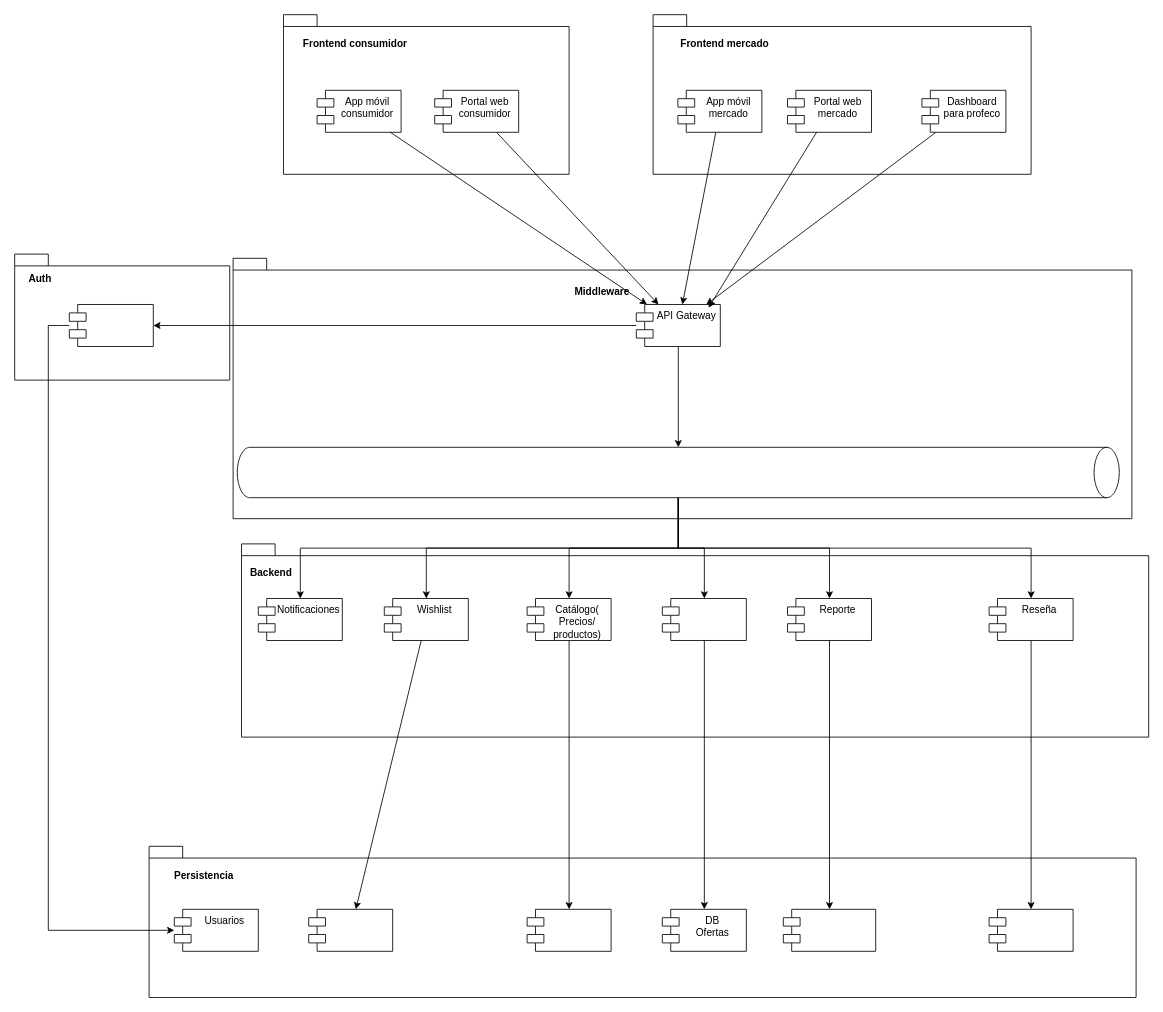
The diagram is 1163 pixels wide and 1012 high, and some of its shapes have lost their labels. Here are the shapes that lost their labels. From the top down, the centre of each, then its label:
the point at 110,325: Auth/Identidad
the point at 677,472: RabbitMQ
the point at 704,619: Ofertas
the point at 350,929: DB Wishlist
the point at 568,929: DB Catalogo
the point at 829,929: DB Inconsistencias
the point at 1030,929: DB Reseña
